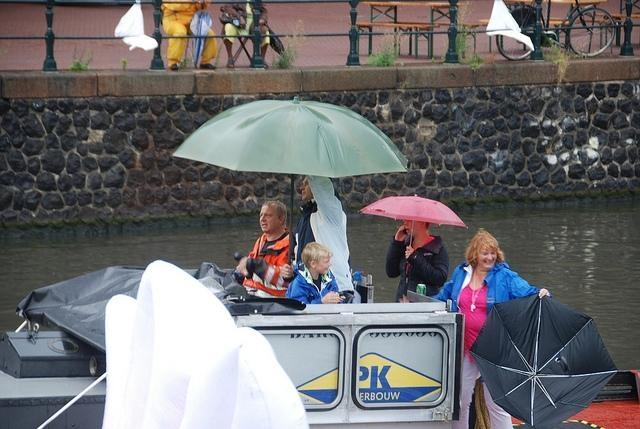bicycle: (498, 2, 616, 61)
